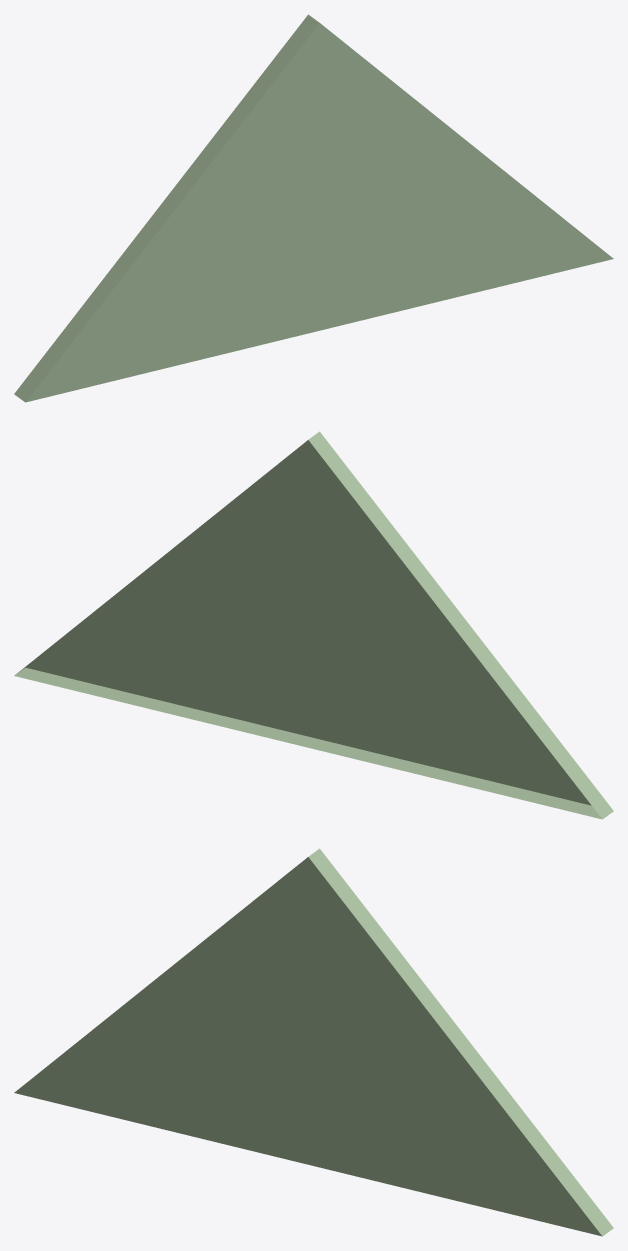
File: RaftersSide.fbx
The picture shows the model from 3 angles, top to bottom: view 1: azimuth 30°, elevation 25°; view 2: azimuth 150°, elevation 25°; view 3: azimuth 330°, elevation 25°; orthographic projection.
Visible parts, largest first — view 1: SideWall; view 2: SideWall; view 3: SideWall.
Boxes of the visible parts, <box> form: SideWall: <box>14,14,613,402</box>; SideWall: <box>14,431,613,819</box>; SideWall: <box>14,848,613,1236</box>.
Size of the model in its own units: 12.56 by 6.28 by 0.4228.
